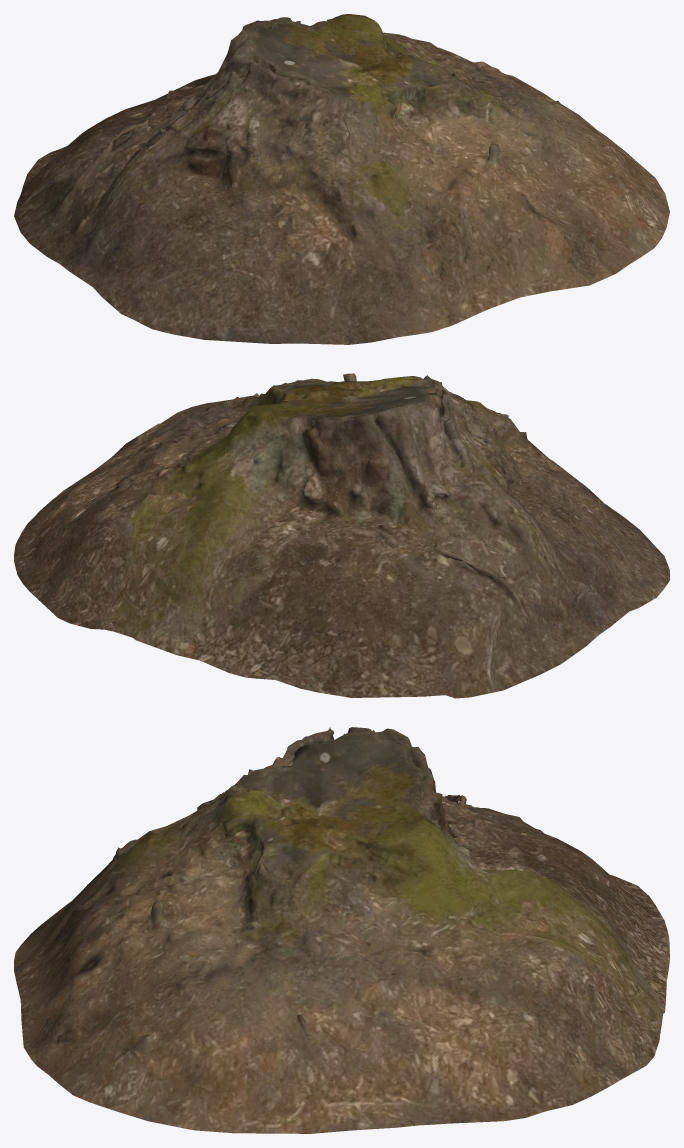
File: tree_stump_02.glb
The picture shows the model from 3 angles, top to bottom: view 1: azimuth 30°, elevation 25°; view 2: azimuth 150°, elevation 25°; view 3: azimuth 270°, elevation 25°; orthographic projection. The views are drawn at different scales.
Parts seen in each view (by area): view 1: tree_stump_02; view 2: tree_stump_02; view 3: tree_stump_02.
Part boxes in pixels (box(x1,y1,x2,y2)): tree_stump_02: box(14, 14, 669, 344); tree_stump_02: box(14, 373, 669, 698); tree_stump_02: box(14, 727, 669, 1133).
Bounding box in the file's own units: 1.52 × 0.5215 × 1.39.
1 material, 1 textured.
